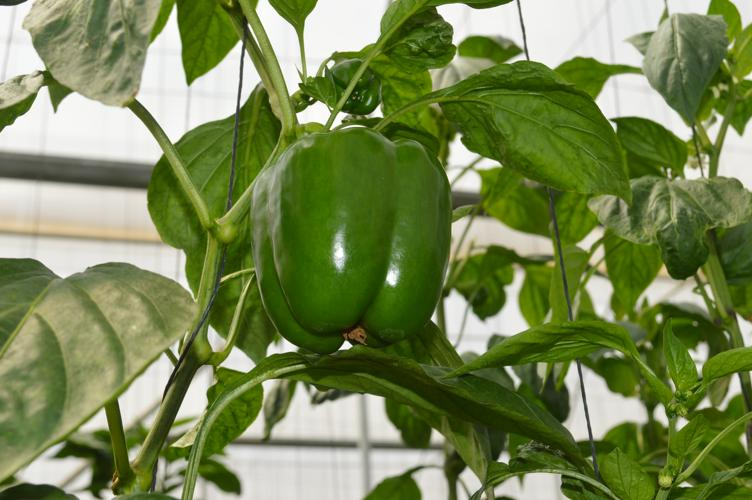BellPepper: (245, 122, 451, 351)
